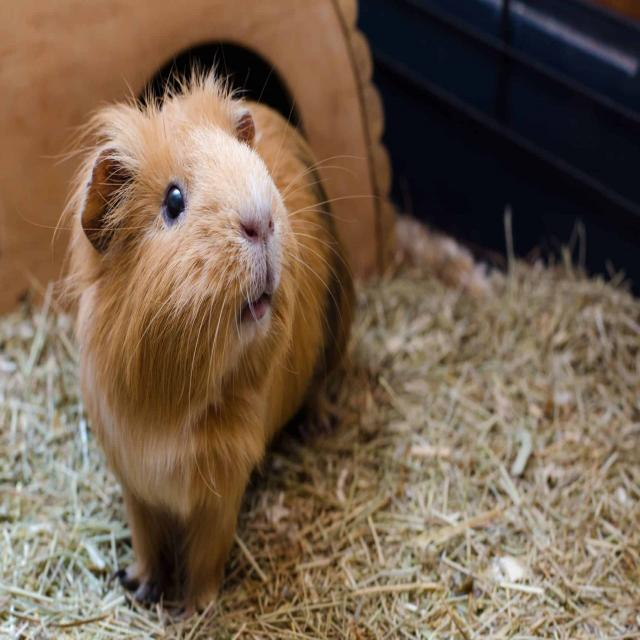hamster: (65, 72, 344, 603)
